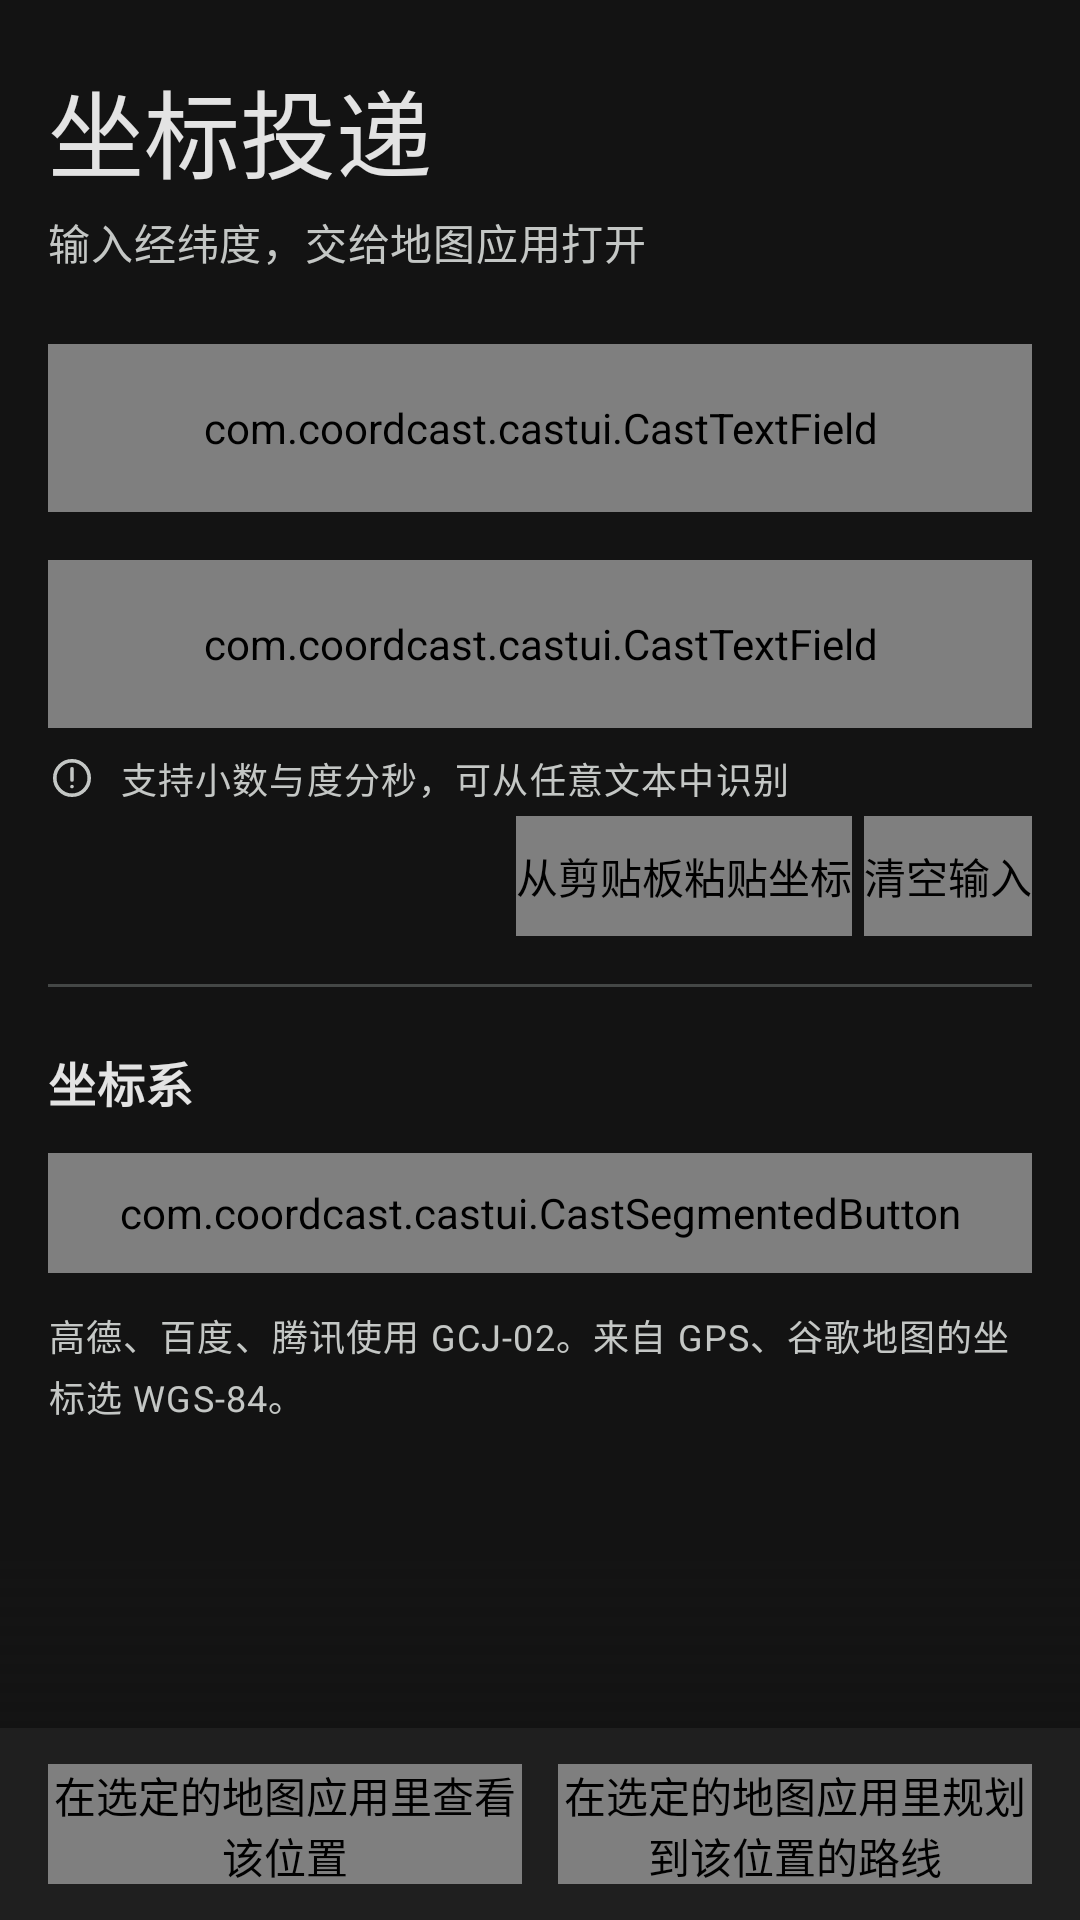

Locate icon controls on the screen. Image size 1080×1920, boxes as (x1, y1, x2, y2).
alert: (53, 759, 91, 797)
